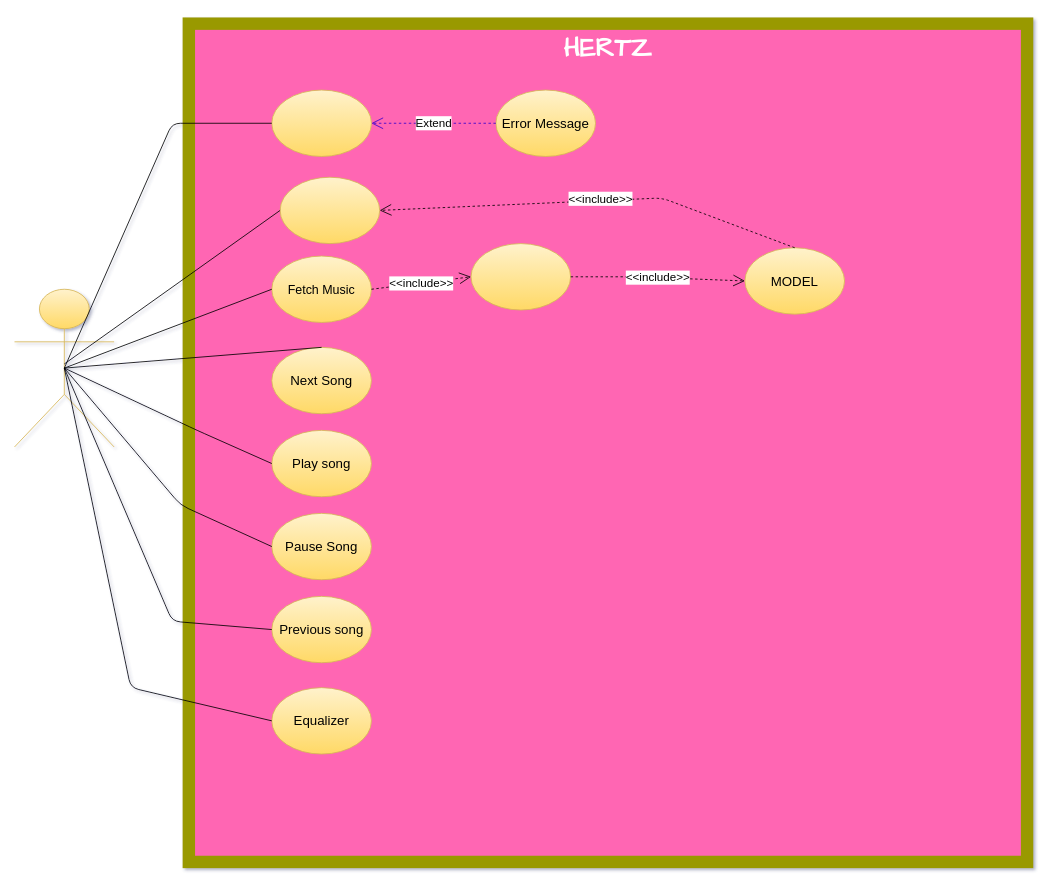
This 1052x887 diagram has some shape labels left out. Here are the shapes that lost their labels. From the top down, the box of each, then its label:
(271, 89, 371, 156): Search
(279, 176, 380, 244): Make Playlist
(470, 243, 571, 310): File Converter
(14, 288, 114, 447): User
